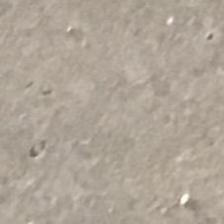Non_Crack: (36, 27, 214, 188)
